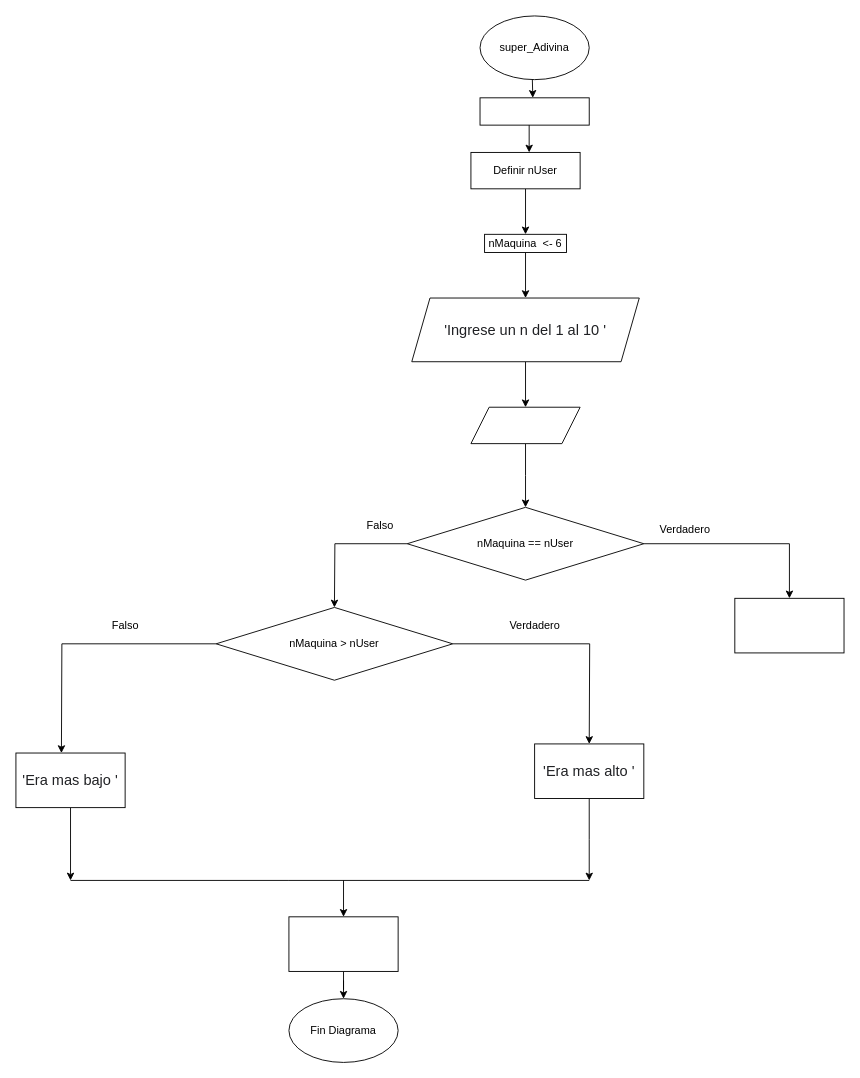
Image size: 860x1078. Some labels were removed from this diagram. The centre of each missing label's shape, as x and y in pixels:
"'Adivinaste '" goes at [789,625].
"'El numero era nMaquina '" goes at [343,943].
"Definir nMaquina" goes at [534,111].
"nUser" goes at [525,425].
